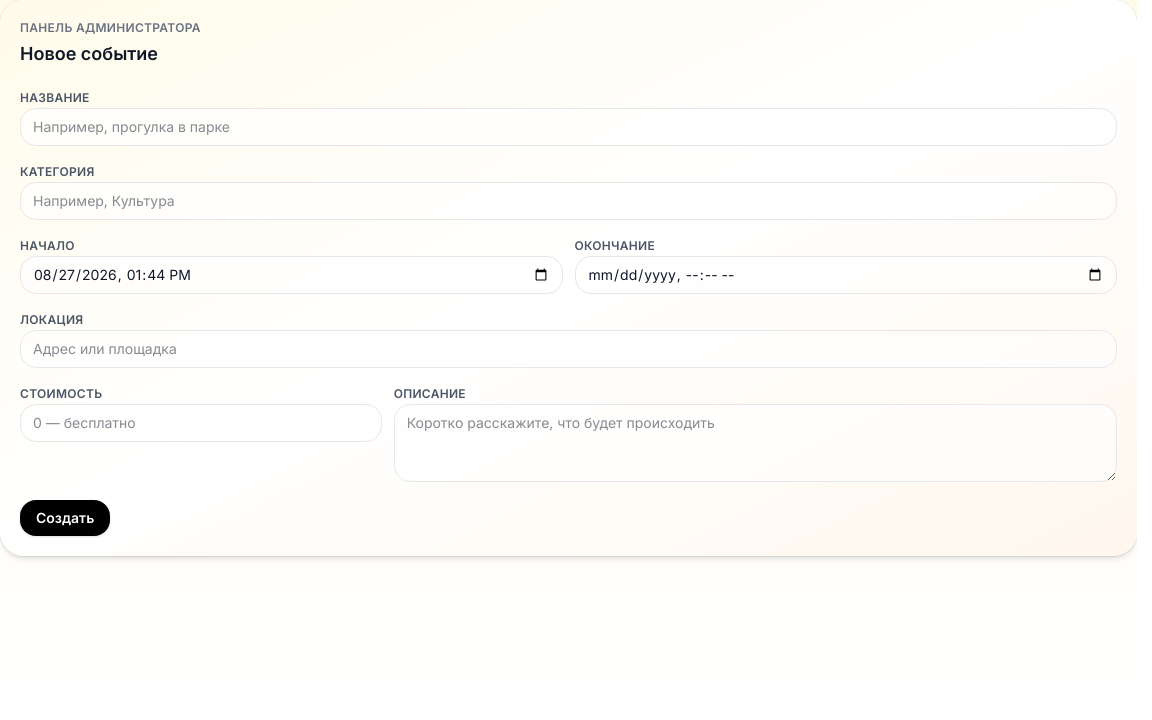
Scenario: AdminEventForm › validates required fields
Click the button "Создать".
click(65, 518)  # box [20,500,110,536]
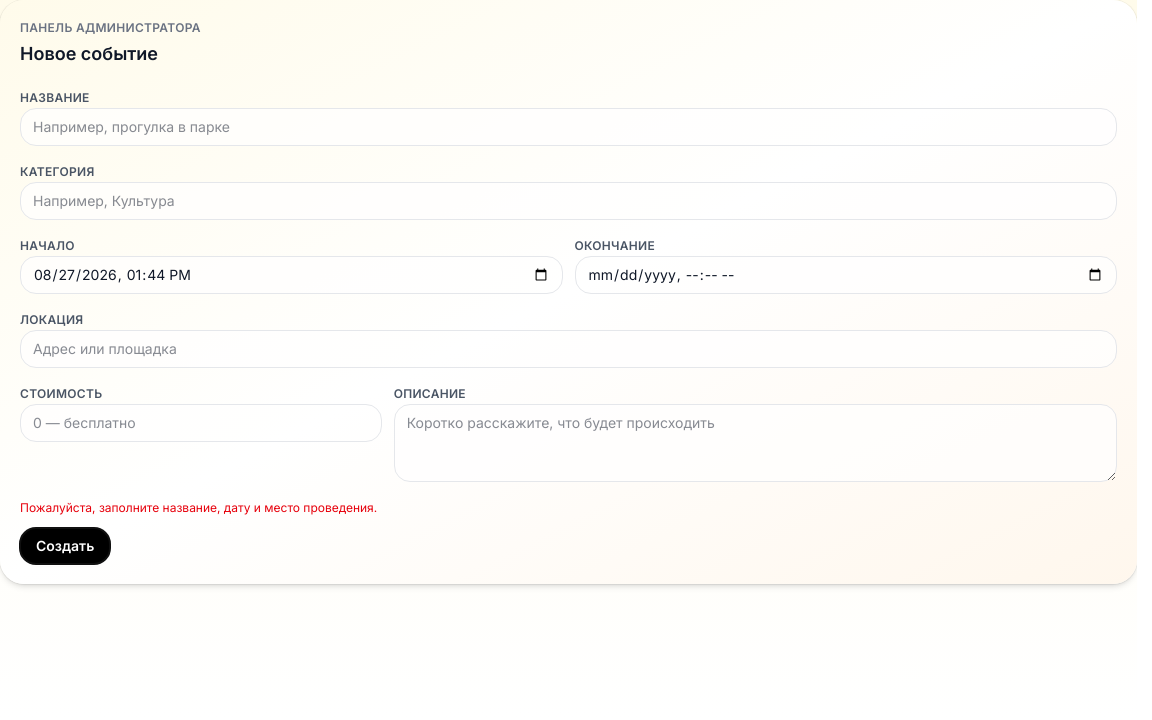
Result: the text "Пожалуйста, заполните название, дату и место проведения." is shown at [20,500,377,515]
